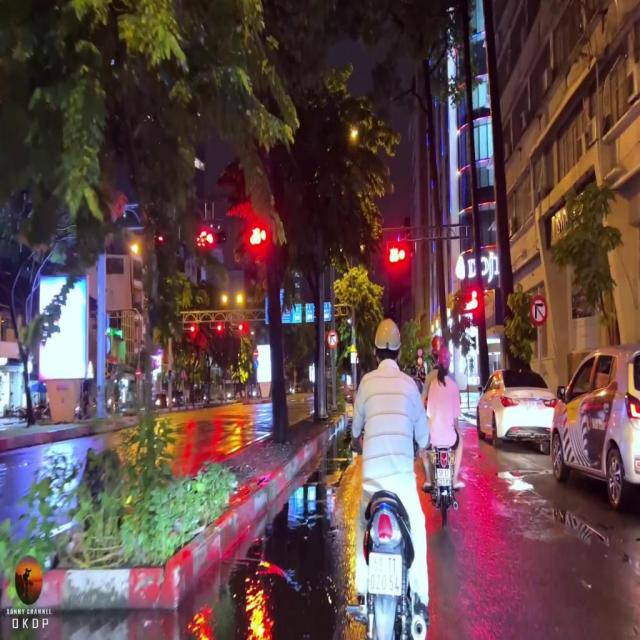cam_re_phai: (529, 294, 549, 327), (328, 328, 338, 347)
duong_mot_chieu: (293, 304, 302, 323)
khac: (306, 303, 314, 322), (324, 302, 330, 321)
